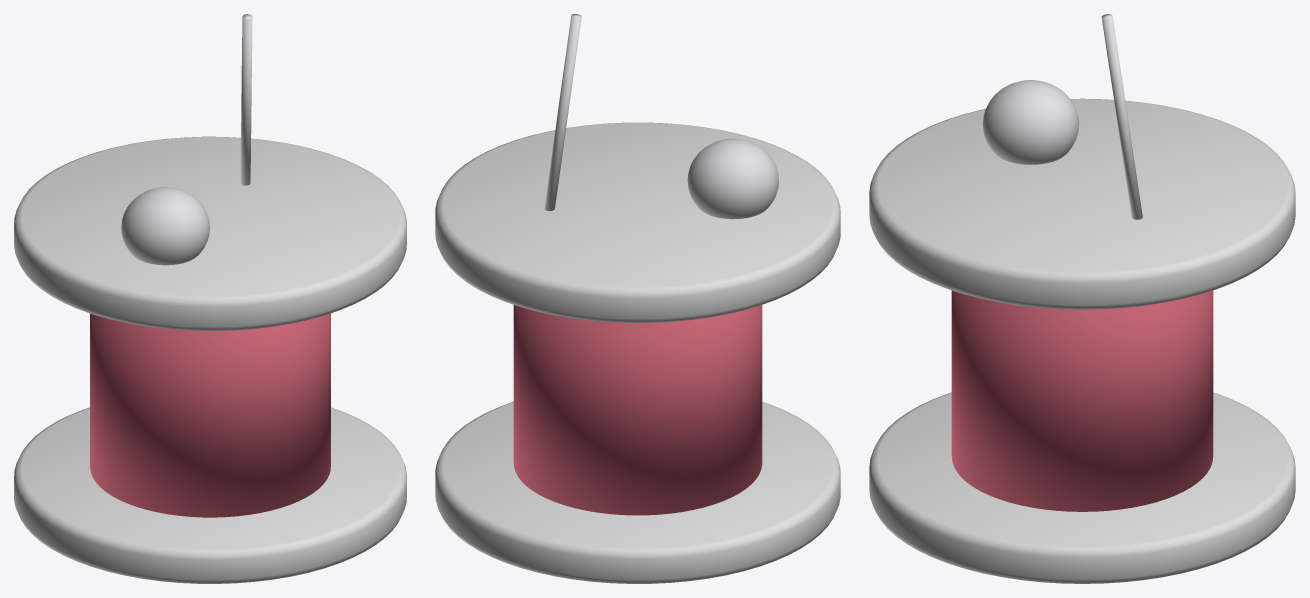
Rendered from sc_table.glb.
The picture shows the model from 3 angles, left to right: view 1: azimuth 30°, elevation 25°; view 2: azimuth 150°, elevation 25°; view 3: azimuth 270°, elevation 25°; orthographic projection. The views are drawn at different scales.
Visible parts, largest first — view 1: Spool_Top, Spool_Thread, Spool_Bottom, Spool_Thimble, Spool_Needle; view 2: Spool_Top, Spool_Thread, Spool_Bottom, Spool_Thimble, Spool_Needle; view 3: Spool_Top, Spool_Thread, Spool_Bottom, Spool_Thimble, Spool_Needle.
Boxes of the visible parts, left/top/right/bottom form: Spool_Top: left=14, top=136, right=406, bottom=330; Spool_Thread: left=90, top=313, right=330, bottom=517; Spool_Bottom: left=14, top=407, right=406, bottom=583; Spool_Thimble: left=121, top=187, right=209, bottom=265; Spool_Needle: left=240, top=14, right=252, bottom=185; Spool_Top: left=435, top=122, right=840, bottom=322; Spool_Thread: left=513, top=305, right=762, bottom=515; Spool_Bottom: left=435, top=402, right=840, bottom=583; Spool_Thimble: left=687, top=138, right=778, bottom=219; Spool_Needle: left=544, top=14, right=581, bottom=210; Spool_Top: left=869, top=98, right=1295, bottom=309; Spool_Thread: left=951, top=290, right=1213, bottom=511; Spool_Bottom: left=869, top=392, right=1295, bottom=583; Spool_Thimble: left=982, top=80, right=1078, bottom=164; Spool_Needle: left=1101, top=14, right=1142, bottom=219.
Bounding box in the file's own units: 0.124 × 0.1628 × 0.124.
